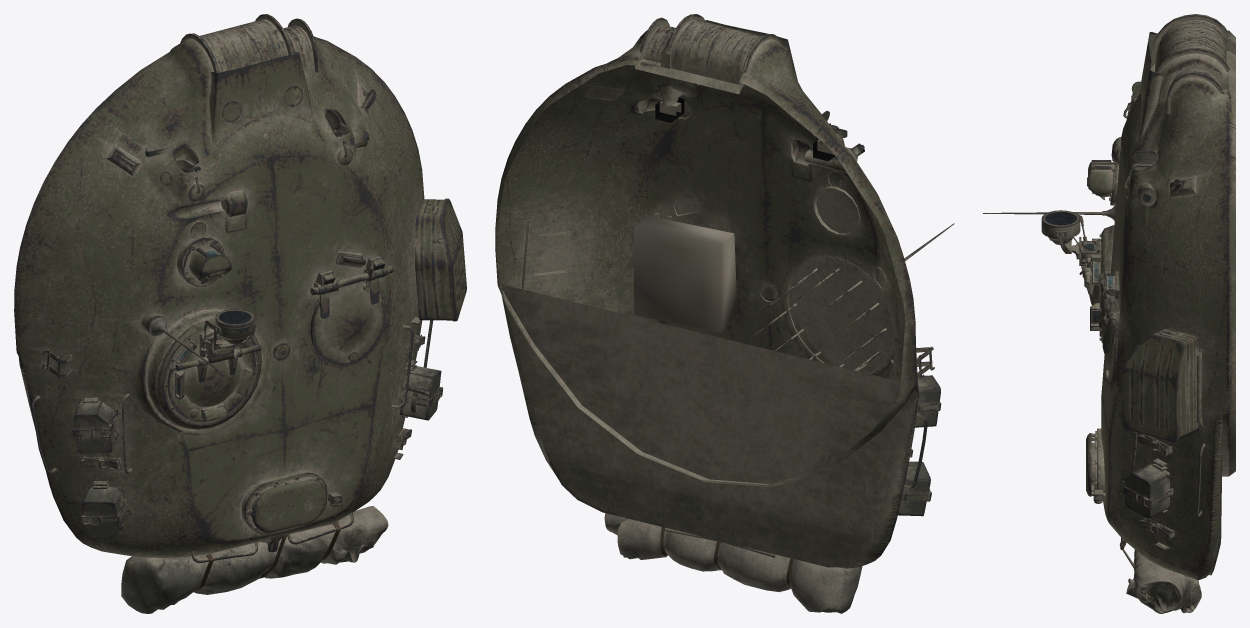
Rendered from Turret_01.glb.
3 renders of one model, left to right at view 1: azimuth 30°, elevation 25°; view 2: azimuth 150°, elevation 25°; view 3: azimuth 270°, elevation 25°, orthographic. The views are drawn at different scales.
Visible parts, largest first — view 1: set_0_group_0; view 2: set_0_group_0; view 3: set_0_group_0.
Boxes of the visible parts, x1,y1,x2,y2 form: set_0_group_0: (14,14,466,613); set_0_group_0: (495,14,954,613); set_0_group_0: (983,14,1235,613).
Size of the model in its own units: 3.03 by 3.76 by 1.59.
1 material, 1 textured.
